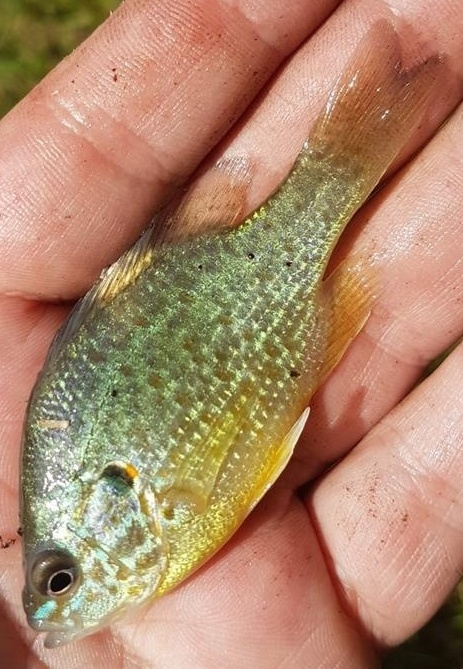Lepomis gibbosus: (20, 20, 443, 649)
